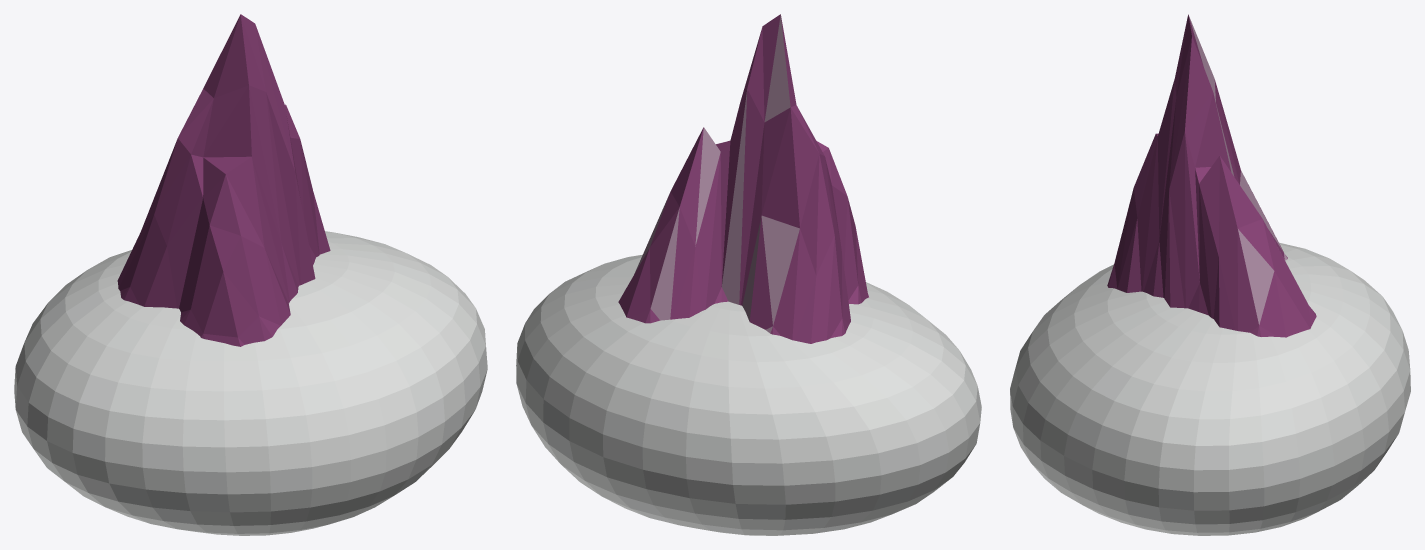
Rendered from mountainblend.fbx.
3 views of the same model, side by side, from view 1: azimuth 30°, elevation 25°; view 2: azimuth 150°, elevation 25°; view 3: azimuth 270°, elevation 25° (orthographic). The views are drawn at different scales.
Parts seen in each view (by area): view 1: Sphere, Plane; view 2: Sphere, Plane; view 3: Sphere, Plane.
Boxes of the visible parts, x1,y1,x2,y2 form: Sphere: (14,231,487,535); Plane: (117,14,330,346); Sphere: (516,254,981,535); Plane: (618,14,868,343); Sphere: (1010,242,1410,535); Plane: (1107,14,1316,337).
Size of the model in its own units: 392 by 433 by 330.
